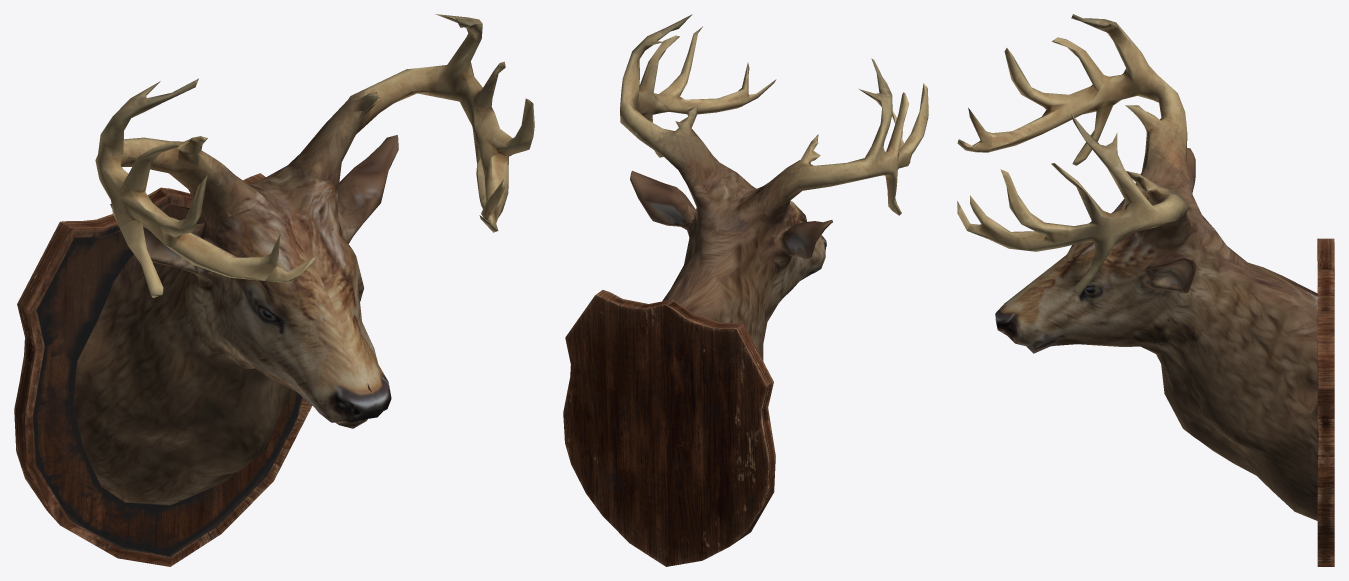
The model's file is SM_DeerMount.fbx.
3 renders of one model, left to right at view 1: azimuth 30°, elevation 25°; view 2: azimuth 150°, elevation 25°; view 3: azimuth 270°, elevation 25°, orthographic. The views are drawn at different scales.
Parts seen in each view (by area): view 1: SM_DeerMount_LOD0; view 2: SM_DeerMount_LOD0; view 3: SM_DeerMount_LOD0.
Boxes of the visible parts, x1,y1,x2,y2 form: SM_DeerMount_LOD0: (14, 14, 534, 566); SM_DeerMount_LOD0: (563, 14, 928, 566); SM_DeerMount_LOD0: (957, 14, 1334, 566).
Size of the model in its own units: 71.53 by 78.61 by 115.
Materials: 1 (1 with a texture image).
